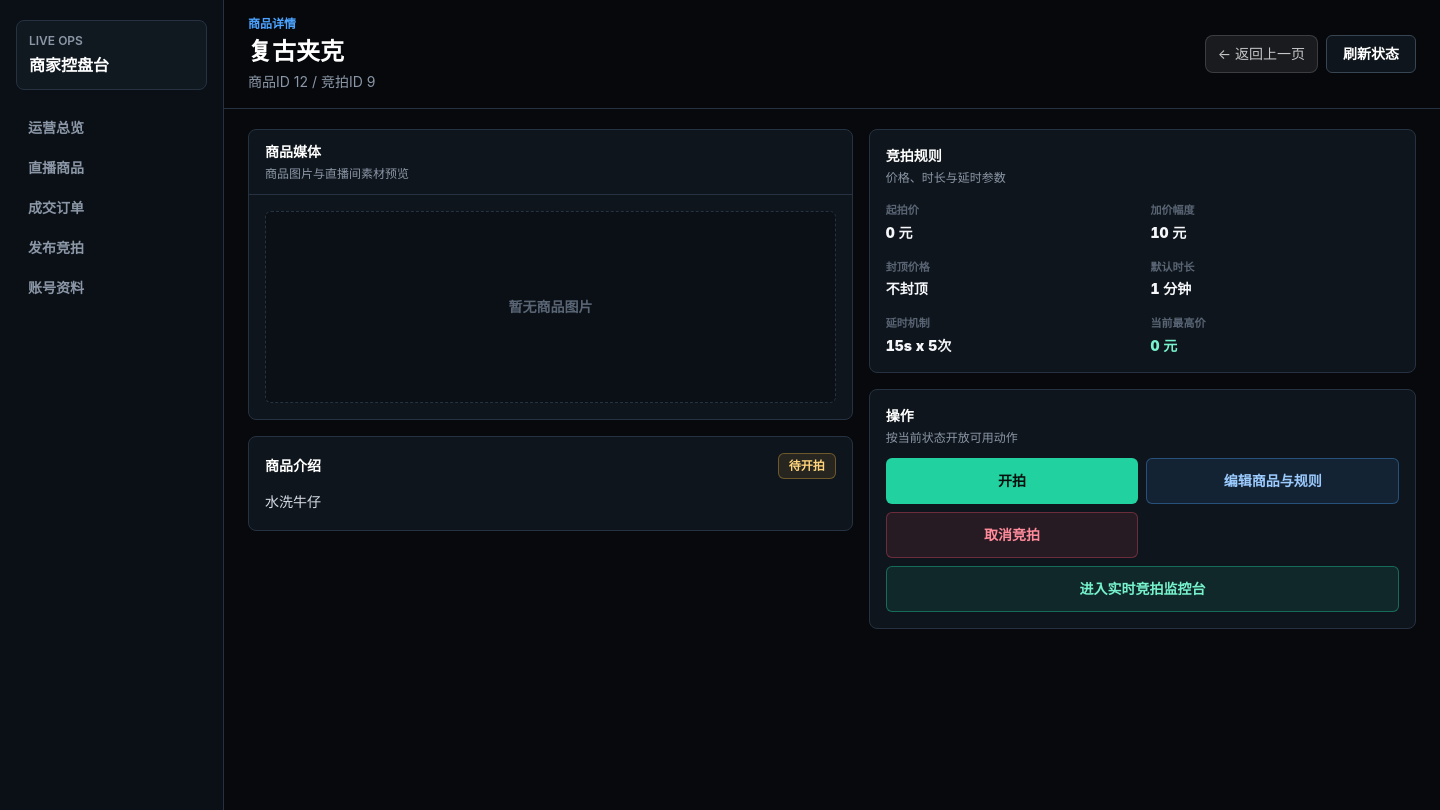
ProductDetail › starts a pending auction and refreshes the detail state
This screenshot has width=1440, height=810.
Step 1. Click the button "开拍" → click(1012, 480), box [886,458,1138,504]
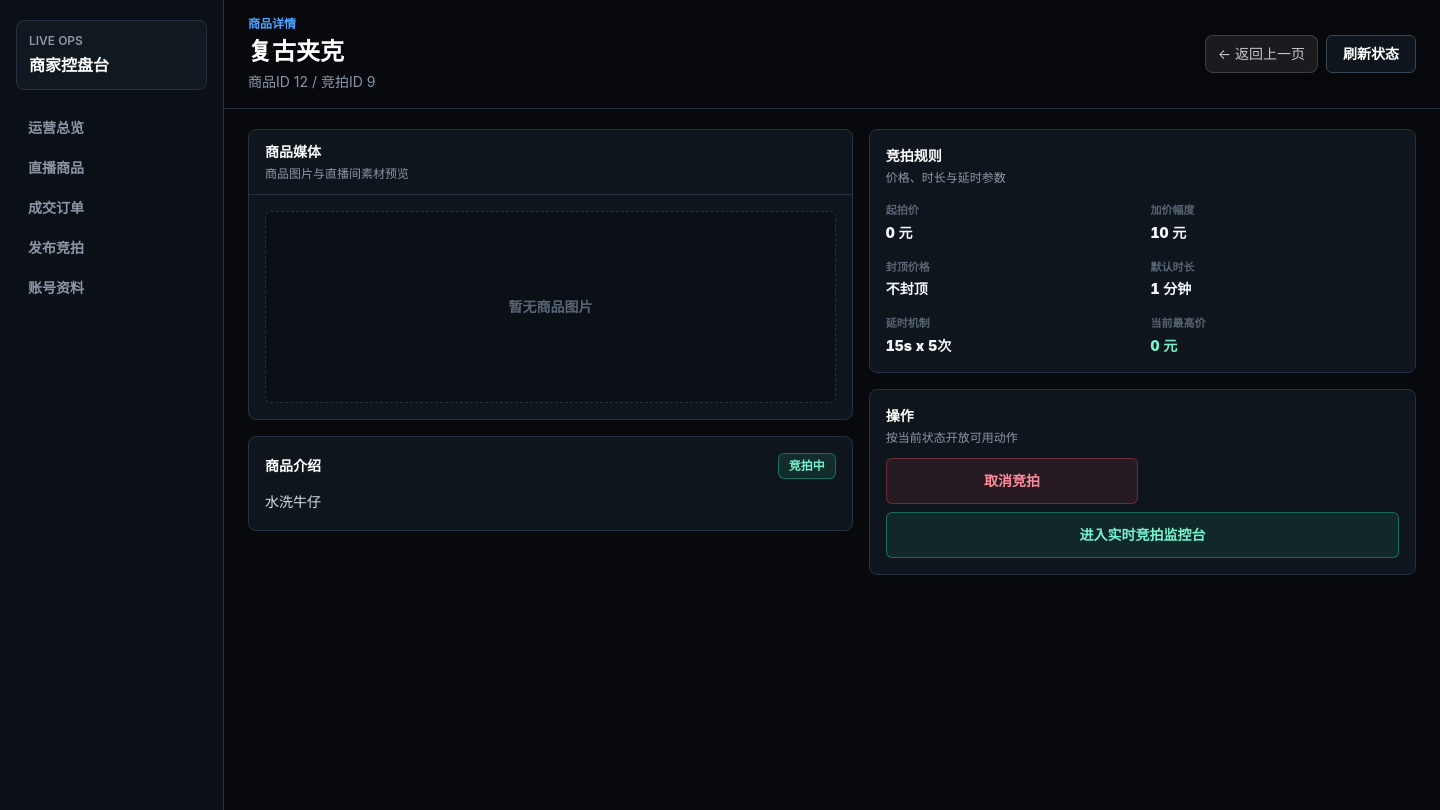
Expected: the text "竞拍中" is shown, [778,453,836,479]
